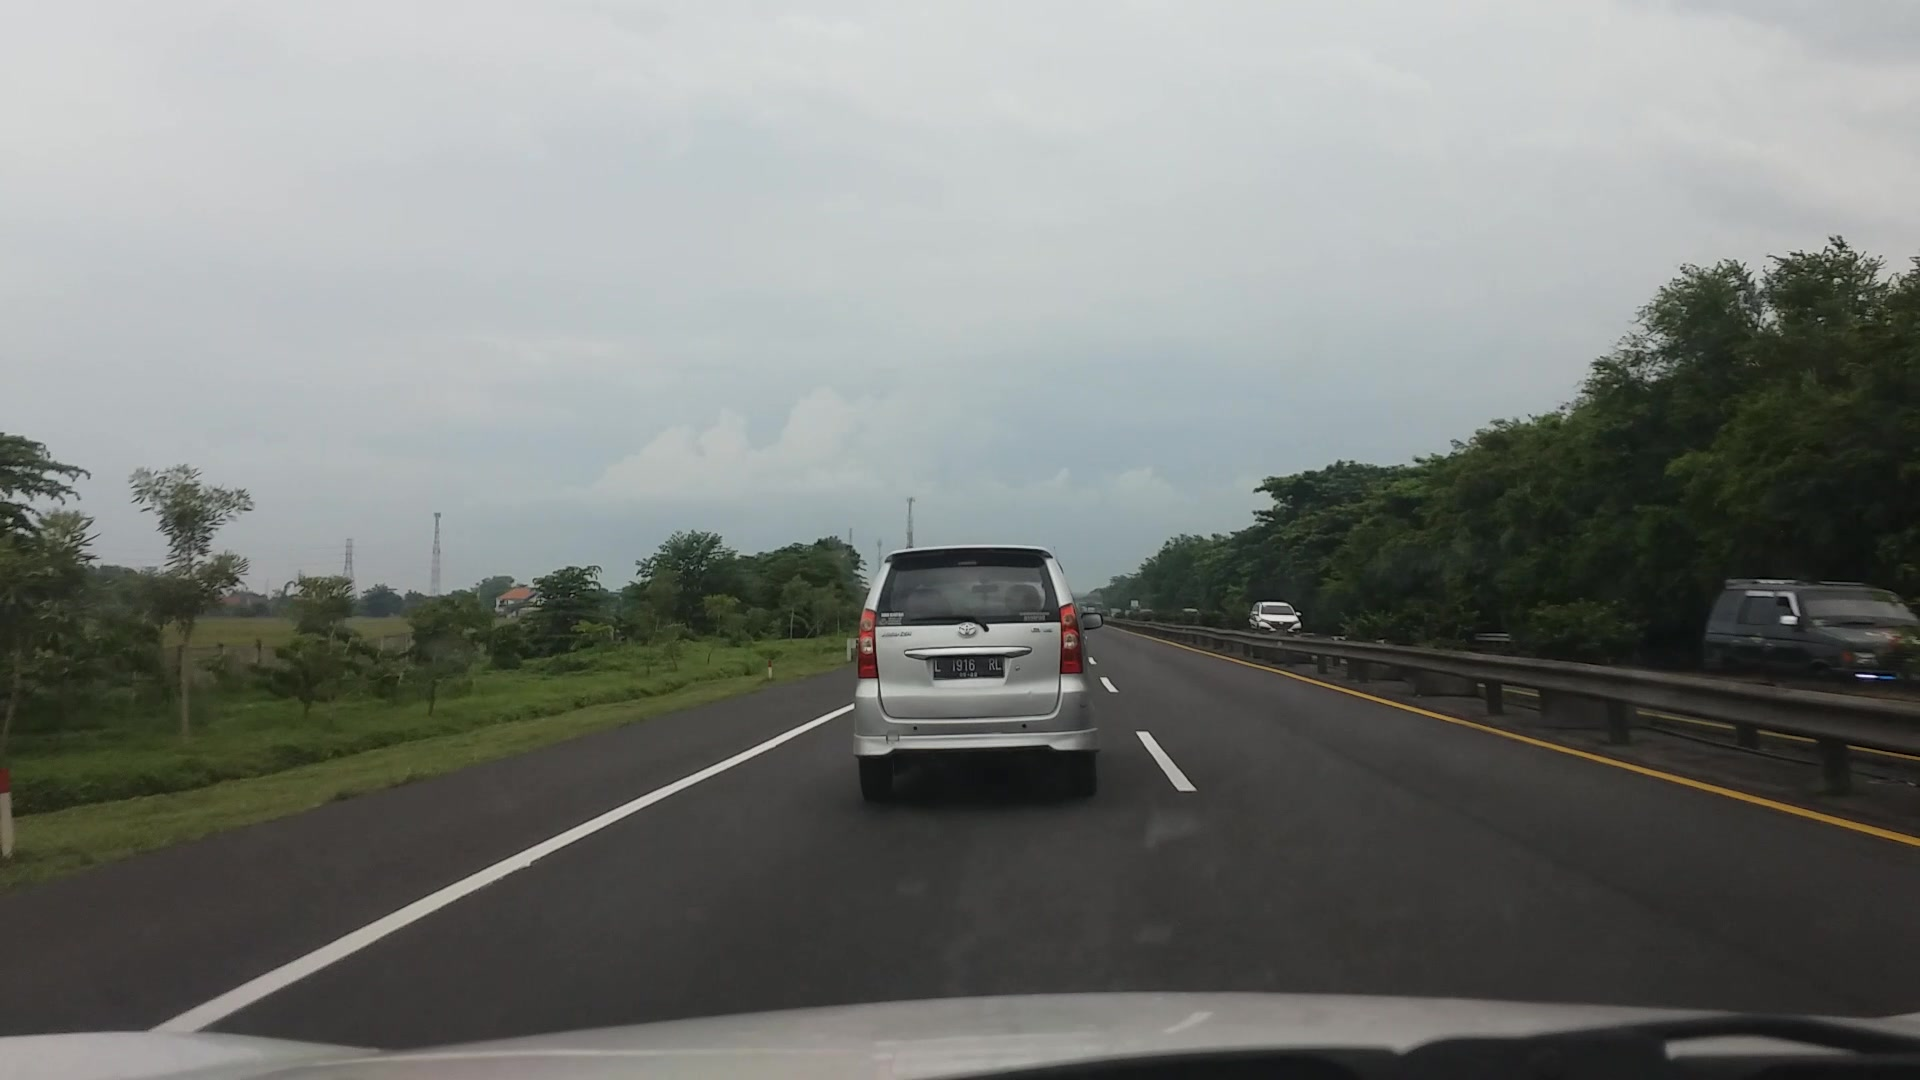plate_positive: (932, 655, 1004, 679)
